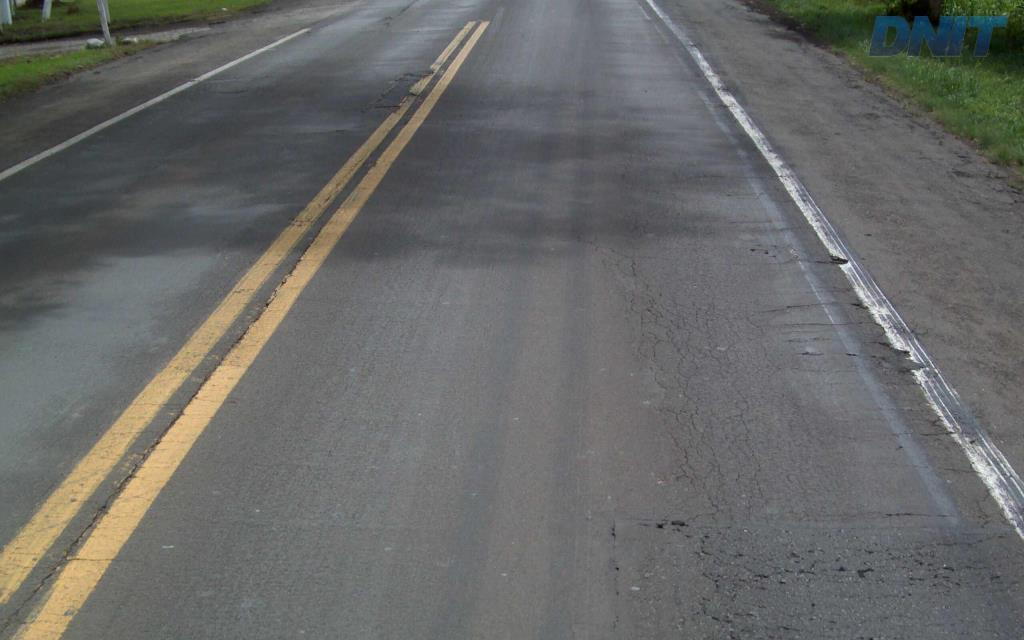crack: (865, 335, 917, 379), (670, 432, 702, 490)
